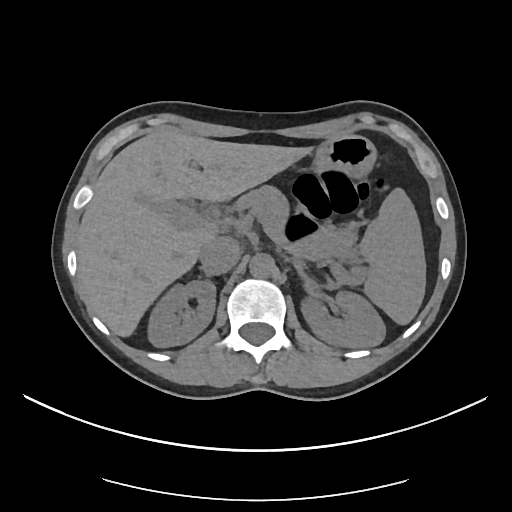Lesion: (184, 295, 199, 313)
